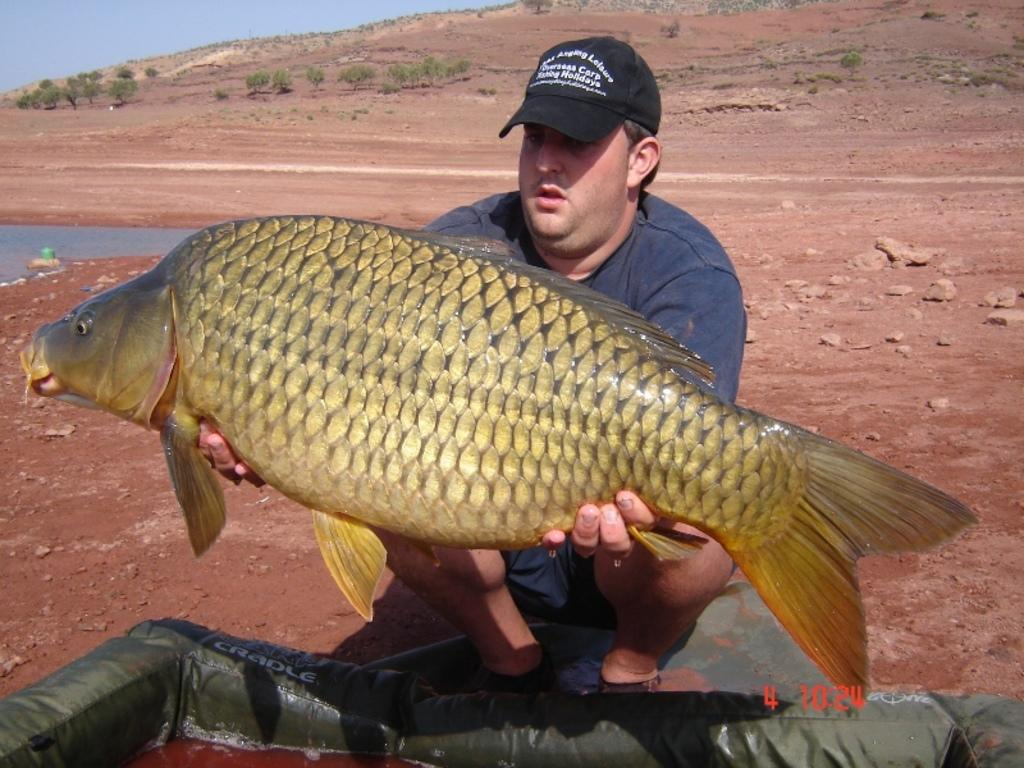Hat: (500, 34, 659, 144)
